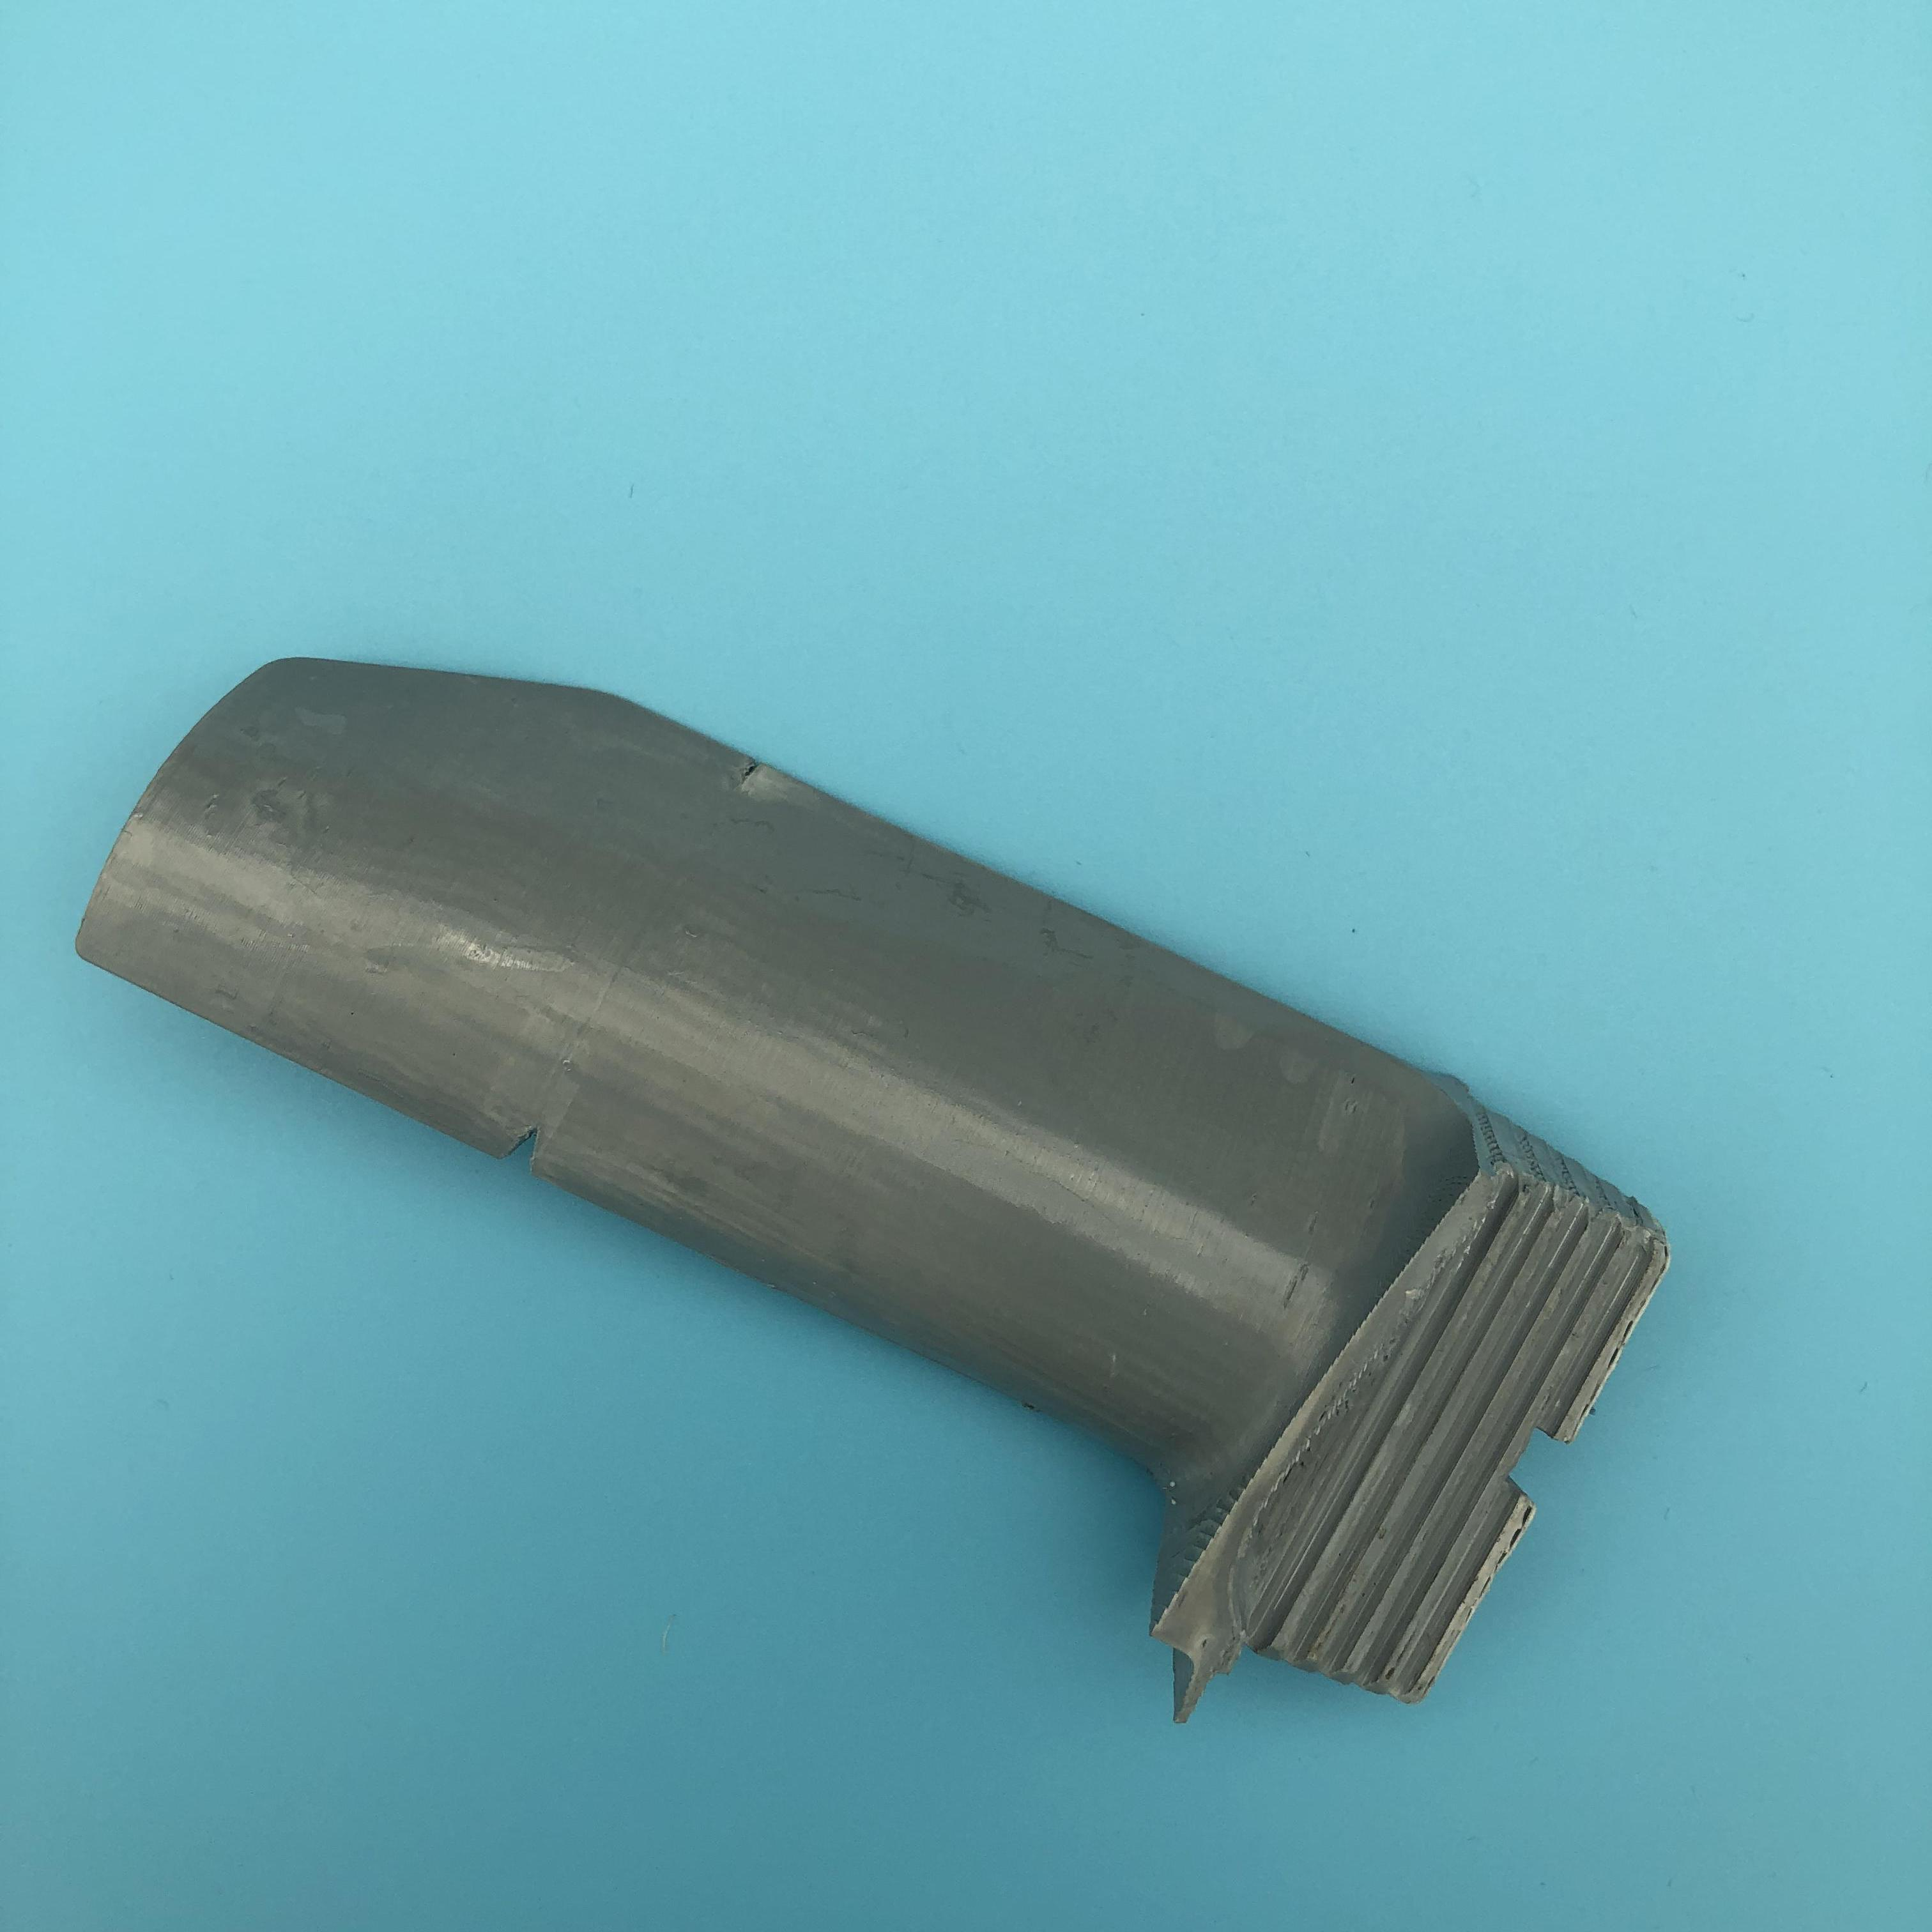groove: (501, 1122, 557, 1169), (734, 754, 773, 789)
